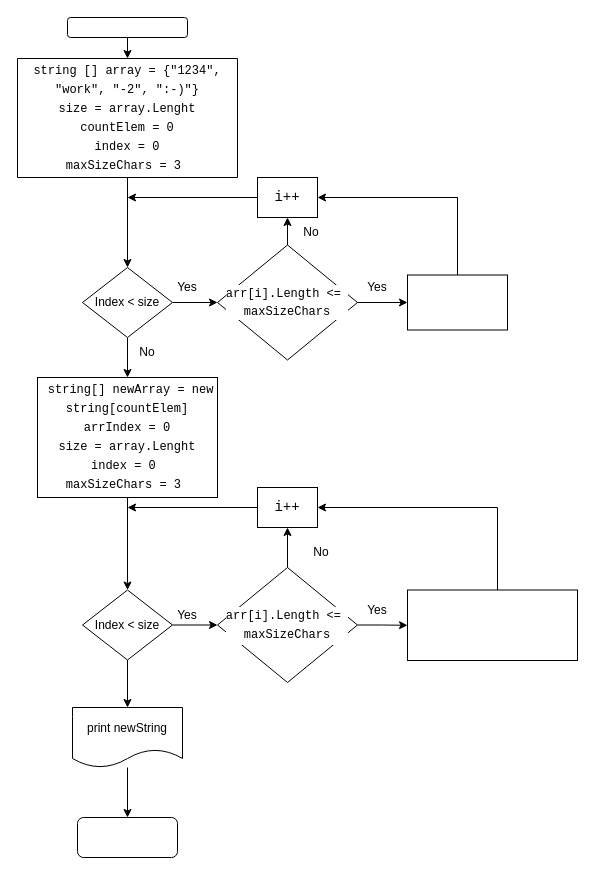
Image size: 595x875. Some labels were removed from this diagram. The shapes that lost their labels are listed below. From the top down, each one's centre as x and y in pixels, then its label:
At pixel 127 27: "start".
At pixel 457 302: "countElem++".
At pixel 492 624: "newArray[arrIndex] = arr[i] arrIndex++".
At pixel 127 837: "end".
